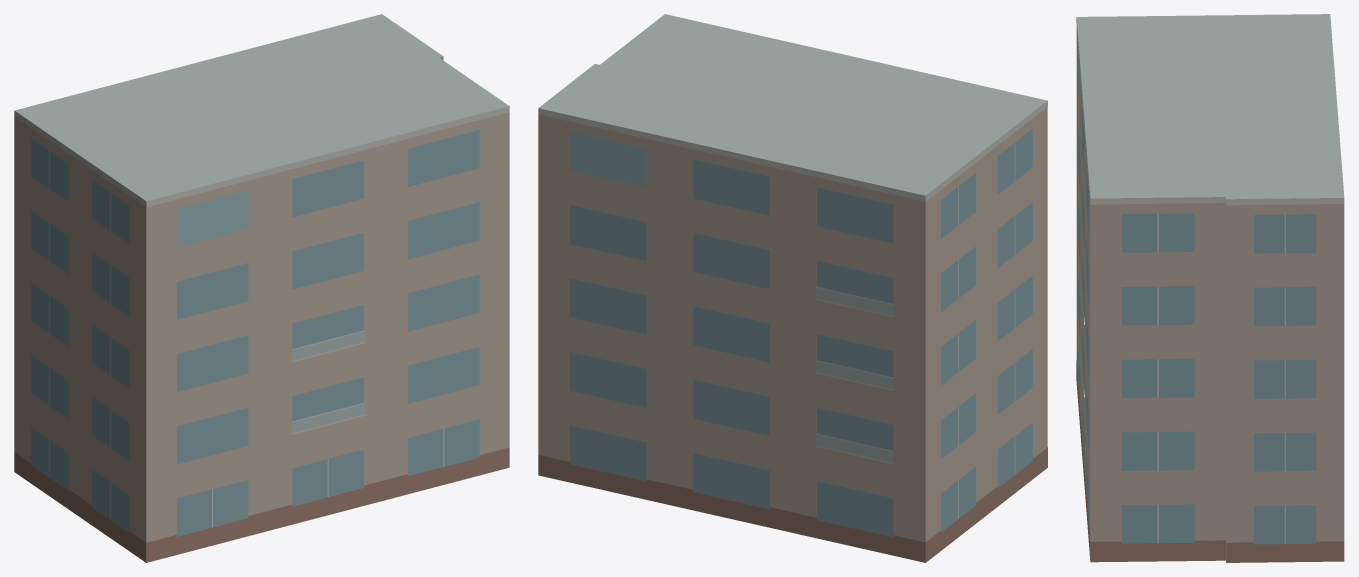
The model's file is survey-upis-32575810.glb.
The picture shows the model from 3 angles, left to right: view 1: azimuth 30°, elevation 25°; view 2: azimuth 150°, elevation 25°; view 3: azimuth 270°, elevation 25°; orthographic projection.
Visible parts, largest first — view 1: survey-upis-32575810.tmp; view 2: survey-upis-32575810.tmp; view 3: survey-upis-32575810.tmp.
Part boxes in pixels (x1,y1,x2,y2): survey-upis-32575810.tmp: [14, 14, 509, 562]; survey-upis-32575810.tmp: [538, 14, 1047, 562]; survey-upis-32575810.tmp: [1076, 14, 1344, 562].
Size of the model in its own units: 16.07 by 14.7 by 9.82.
